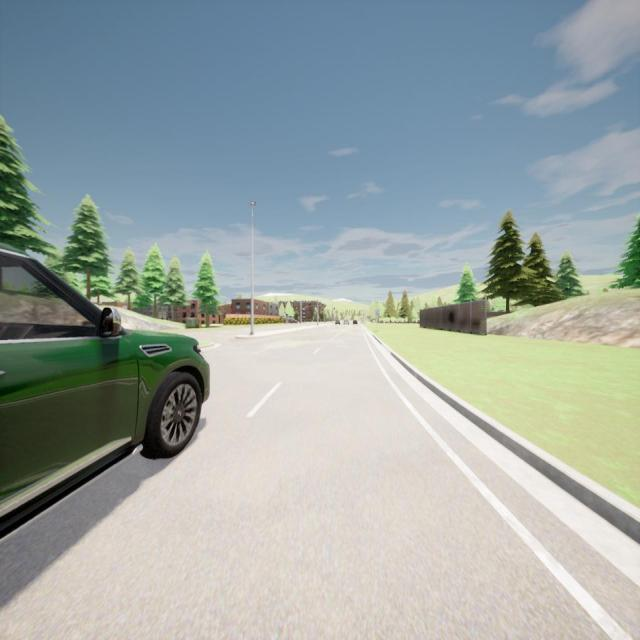Traffic_Signs: (375, 310, 379, 318)
Vehicle: (0, 249, 211, 538), (287, 317, 297, 324), (343, 320, 350, 325), (335, 320, 340, 325), (352, 320, 358, 324)
